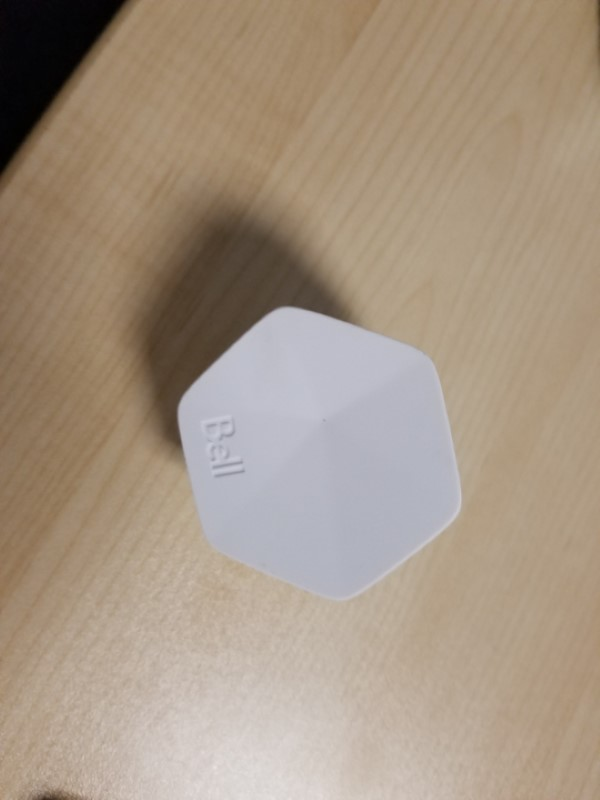pod: (167, 299, 473, 626)
